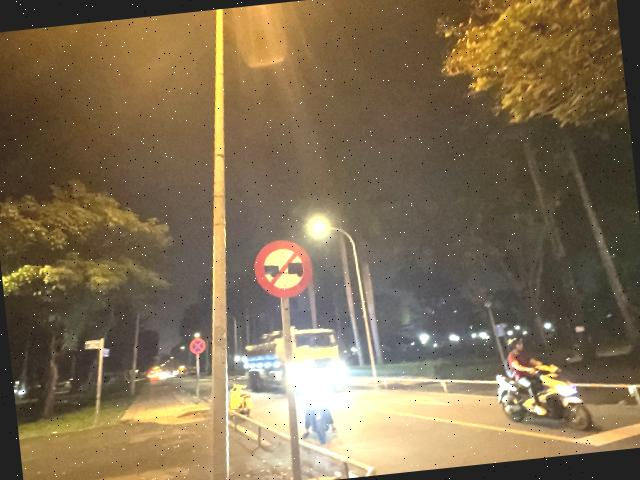cam-xe-somi-romooc: (252, 236, 316, 302)
